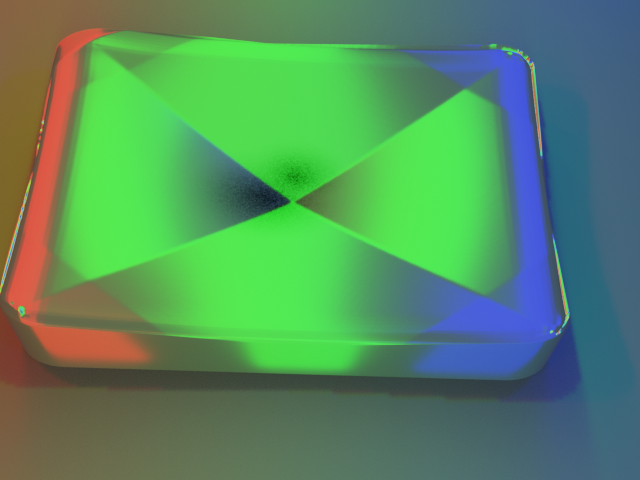smash: (0, 0, 639, 479)
stain: (167, 107, 401, 245)
